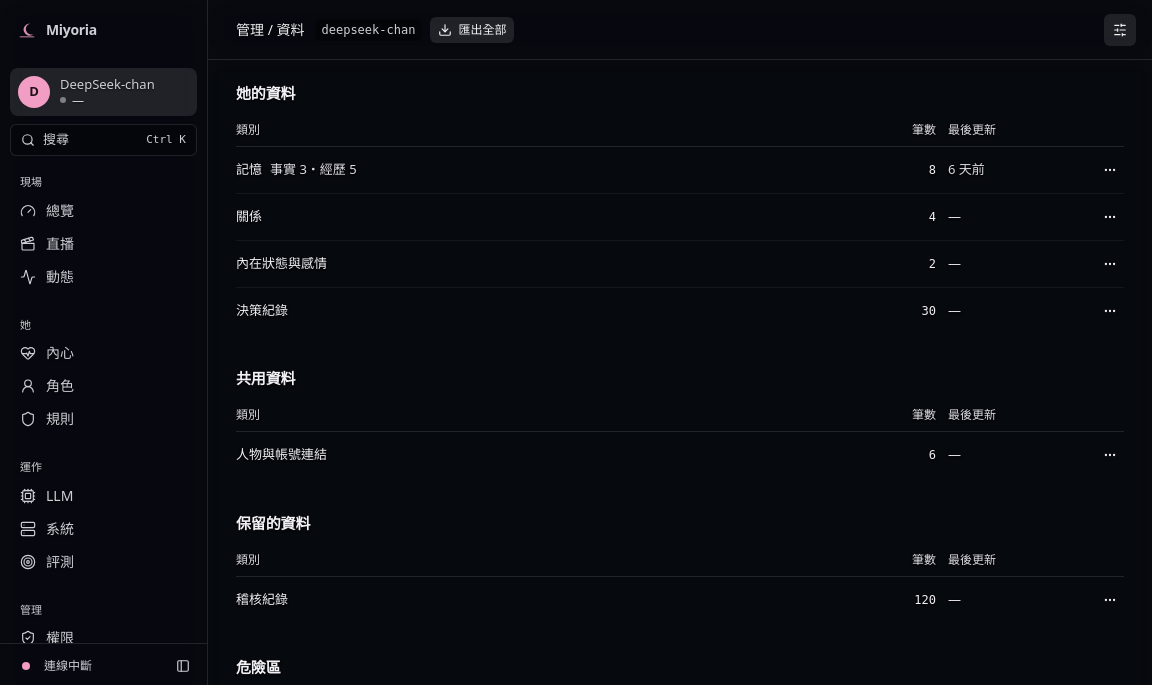
Test: Data › lists every category with counts, grouped, and memories by kind
Expected: the text "8" is shown, [852, 146, 948, 193]
Expected: the text "事實 3・經歷 5" is shown, [270, 160, 357, 179]
The audit log is never deletable.
Click the button named "稽核紀錄 的動作" at (1110, 600), box [1096, 586, 1124, 614]
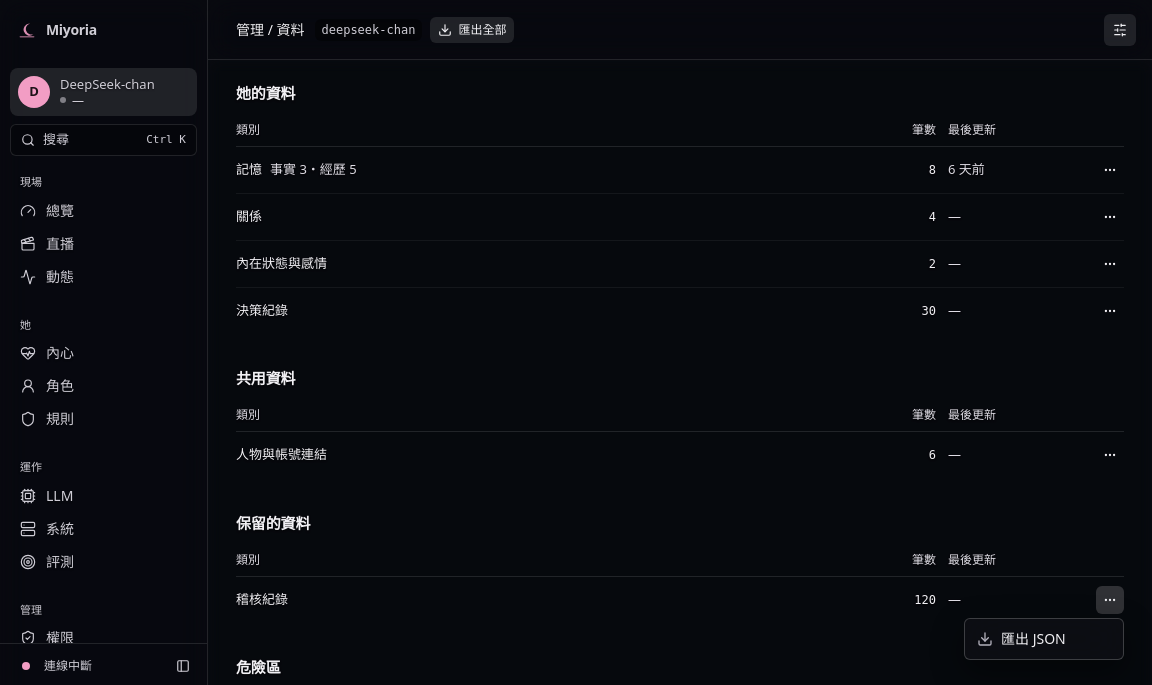
Expected: the menu item "匯出 JSON" is shown, [977, 629, 1066, 648]
